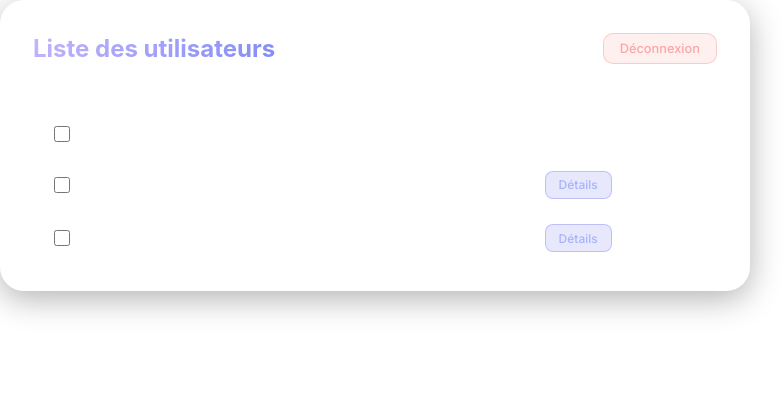
Test: UserList - mode admin (avec token) › sélectionne tous les utilisateurs via select-all
This screenshot has width=784, height=412.
Click the checkbox with id "select-all" at coordinates (62, 134), box left=54, top=126, right=70, bottom=142
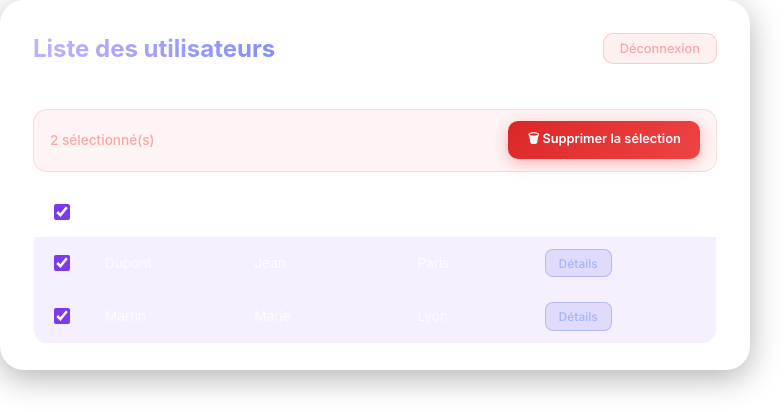
Result: the checkbox with id "select-user-1" is checked at left=54, top=255, right=70, bottom=271
Result: the checkbox with id "select-user-2" is checked at left=54, top=308, right=70, bottom=324
